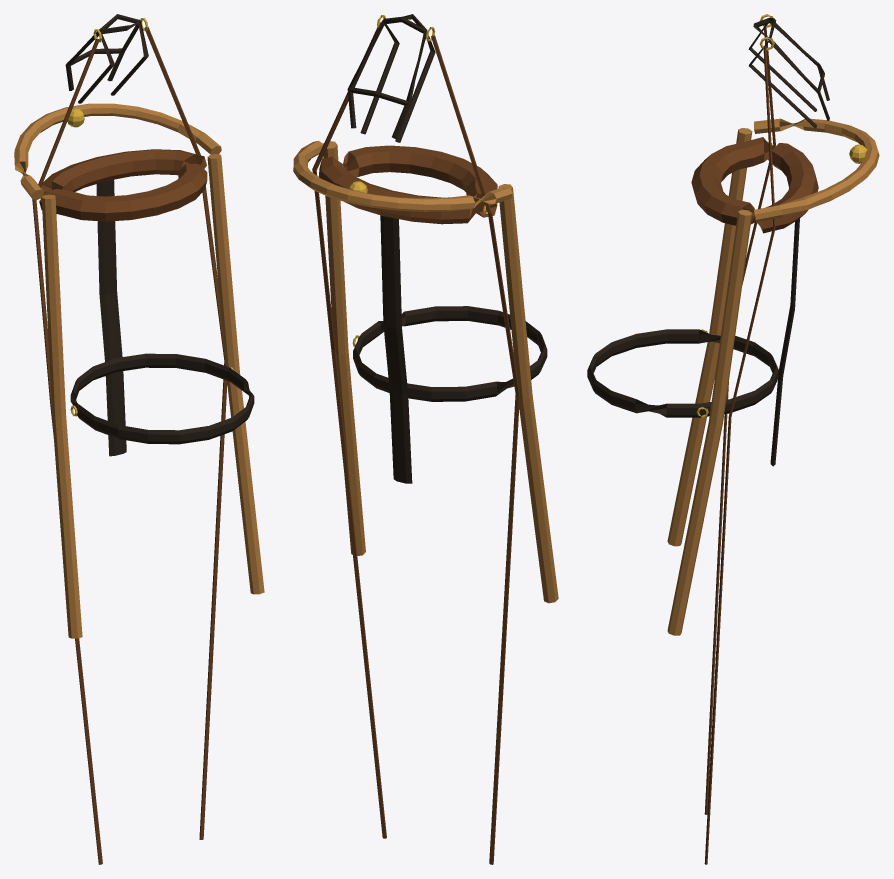
File: harness.glb
The picture shows the model from 3 angles, left to right: view 1: azimuth 30°, elevation 25°; view 2: azimuth 150°, elevation 25°; view 3: azimuth 270°, elevation 25°; orthographic projection. The views are drawn at different scales.
Parts seen in each view (by area): view 1: Shafts_Wood, Collar_Leather, Reins_Straps, Girth_Strap, Back_Strap, Collar_Wooden_Bow, Bridle_Straps; view 2: Shafts_Wood, Reins_Straps, Collar_Leather, Back_Strap, Girth_Strap, Collar_Wooden_Bow, Bridle_Straps; view 3: Shafts_Wood, Collar_Leather, Girth_Strap, Reins_Straps, Collar_Wooden_Bow, Bridle_Straps, Back_Strap.
Part boxes in pixels (x1,y1,x2,y2): Shafts_Wood: [41, 154, 264, 638]; Collar_Leather: [39, 149, 207, 221]; Reins_Straps: [32, 27, 227, 864]; Girth_Strap: [70, 353, 254, 444]; Back_Strap: [96, 179, 126, 456]; Collar_Wooden_Bow: [14, 103, 221, 199]; Bridle_Straps: [65, 14, 148, 103]; Shafts_Wood: [323, 141, 558, 603]; Reins_Straps: [312, 22, 519, 864]; Collar_Leather: [318, 145, 497, 224]; Back_Strap: [380, 215, 412, 483]; Girth_Strap: [353, 306, 547, 401]; Collar_Wooden_Bow: [293, 140, 512, 211]; Bridle_Straps: [347, 14, 435, 142]; Shafts_Wood: [667, 128, 752, 635]; Collar_Leather: [691, 137, 818, 233]; Girth_Strap: [587, 329, 778, 417]; Reins_Straps: [704, 25, 775, 864]; Collar_Wooden_Bow: [753, 118, 879, 221]; Bridle_Straps: [748, 17, 829, 127]; Back_Strap: [770, 218, 799, 466].
Bounding box in the file's own units: 0.9247 × 3.7 × 1.19.
